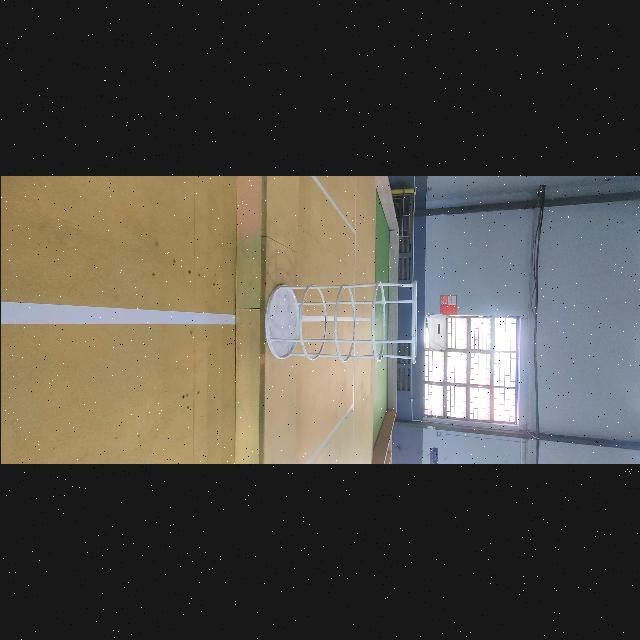S: (265, 278, 417, 364)
